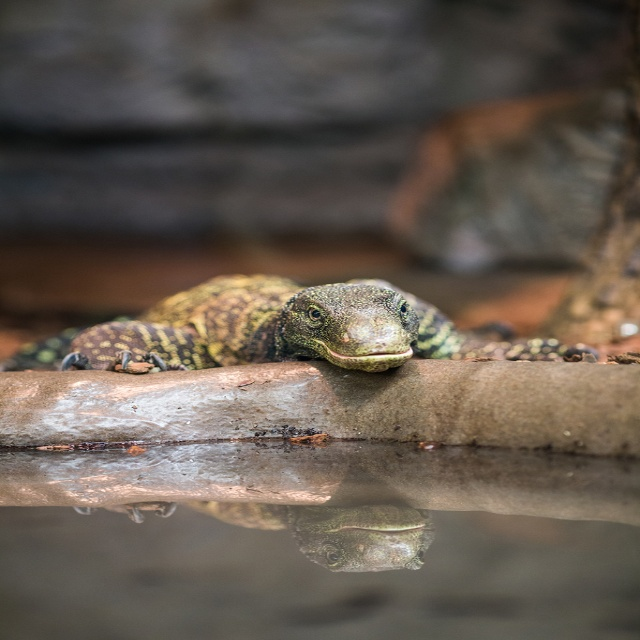Lizard: (53, 270, 597, 374)
